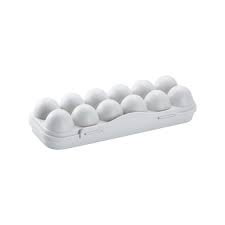eggs: (27, 78, 213, 144)
